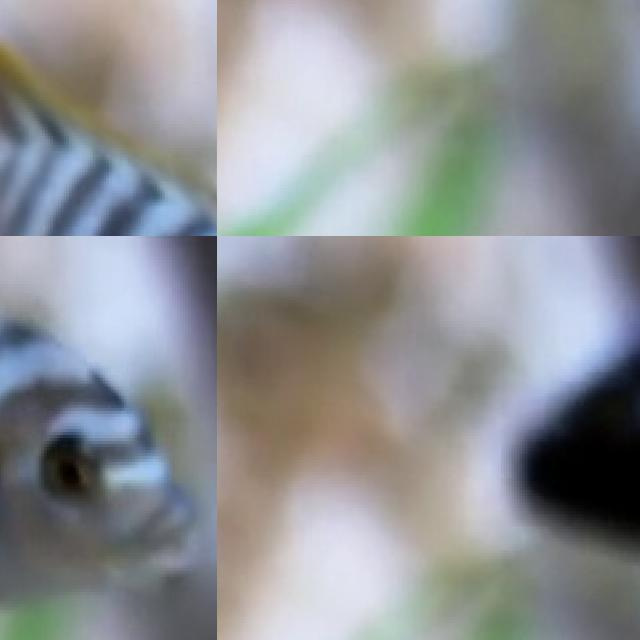fish: (0, 236, 217, 637), (0, 0, 217, 236), (519, 236, 640, 610)
